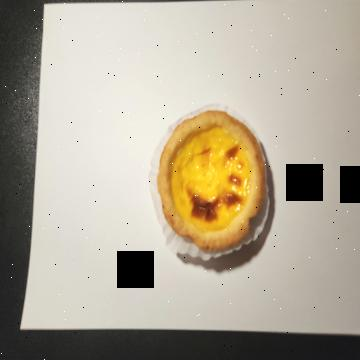EggTart: (157, 110, 266, 251)
